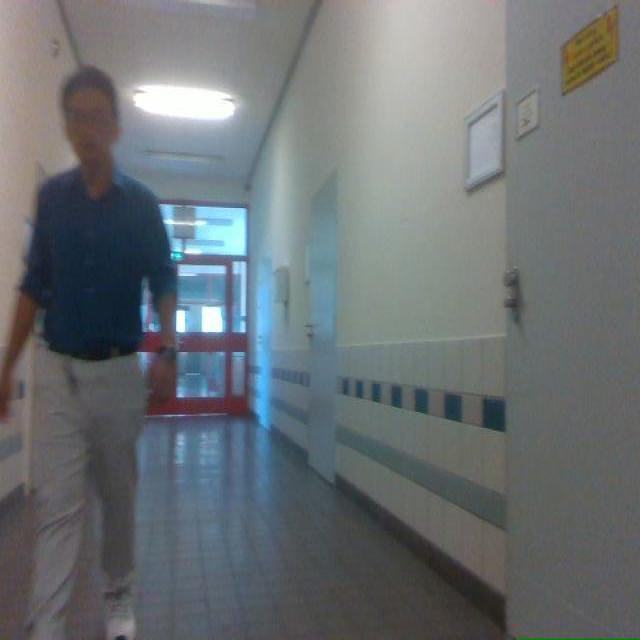humans: (0, 68, 176, 639)
